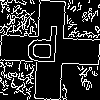P: (25, 25, 61, 72)
